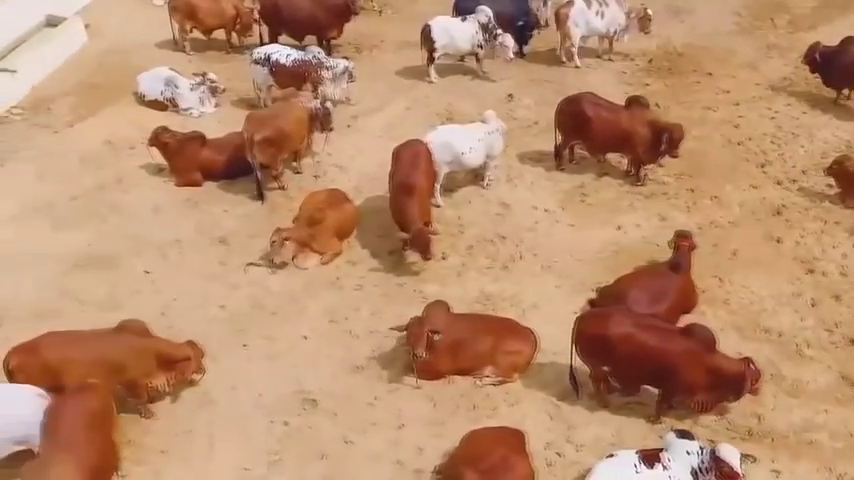bo: (555, 302, 768, 434), (13, 315, 201, 413), (399, 283, 546, 393), (546, 83, 689, 195), (589, 216, 712, 323), (231, 81, 340, 196), (21, 375, 137, 480), (257, 172, 372, 274), (377, 128, 456, 266), (570, 424, 758, 480), (237, 32, 354, 110), (140, 116, 257, 194), (423, 104, 511, 205), (414, 2, 520, 83), (549, 2, 662, 70), (424, 418, 545, 480), (253, 3, 382, 58), (161, 1, 260, 65), (135, 59, 229, 121), (791, 31, 854, 113), (452, 1, 536, 59), (1, 370, 46, 459), (813, 145, 854, 202)
